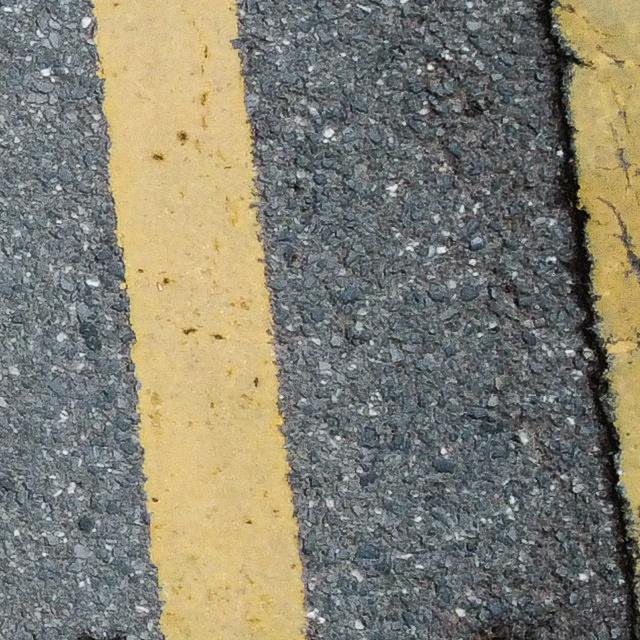LongitudinalCrack: (535, 2, 640, 640)
